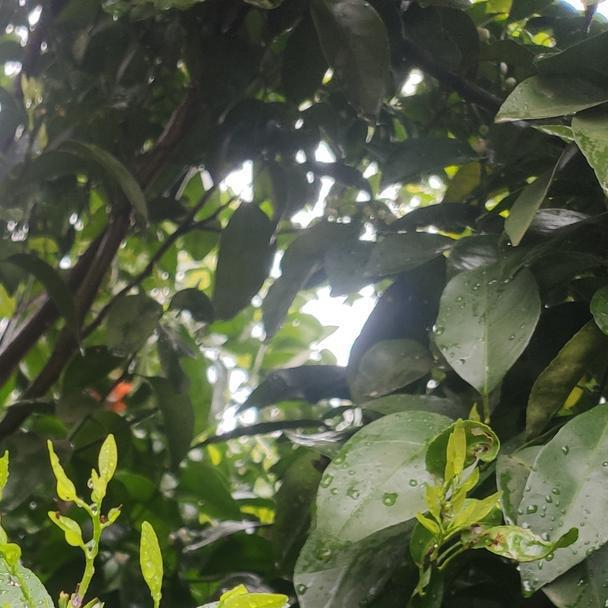shoot: (45, 440, 126, 565)
